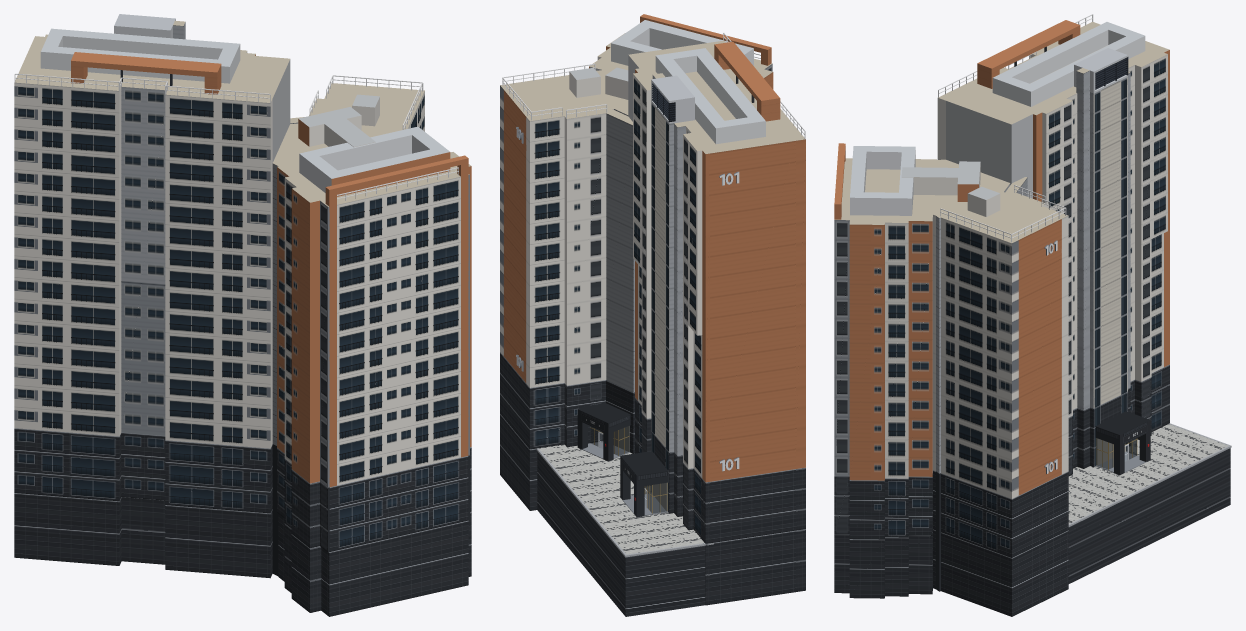
Rendered from place_금파힐101.glb.
3 renders of one model, left to right at view 1: azimuth 30°, elevation 25°; view 2: azimuth 150°, elevation 25°; view 3: azimuth 270°, elevation 25°, orthographic. The views are drawn at different scales.
Parts seen in each view (by area): view 1: WingA_NW_19F, WingC_South_16F, Basement_B1B2_14, Basement_B1B2_1, Basement_B1B2_2, WingB_NE_16F, KumhoParkHills_101, Basement_B1B2_0, Basement_B1B2_15; view 2: WingA_NW_19F, WingB_NE_16F, KumhoParkHills_101, Walkway_1F_RetainingBase, Walkway_1F_Deck, Basement_B1B2_0, WingC_South_16F, Basement_B1B2_12, Basement_B1B2_1; view 3: WingA_NW_19F, WingB_NE_16F, WingC_South_16F, Walkway_1F_RetainingBase, Basement_B1B2_12, Walkway_1F_Deck, KumhoParkHills_101, Basement_B1B2_14, Basement_B1B2_16, Basement_B1B2_18.
Boxes of the visible parts, <box> form: WingA_NW_19F: <box>14,14,290,513</box>; WingC_South_16F: <box>277,107,471,552</box>; Basement_B1B2_14: <box>278,513,468,616</box>; Basement_B1B2_1: <box>14,493,121,565</box>; Basement_B1B2_2: <box>165,505,272,578</box>; WingB_NE_16F: <box>309,75,424,137</box>; KumhoParkHills_101: <box>272,117,383,510</box>; Basement_B1B2_0: <box>121,497,165,564</box>; Basement_B1B2_15: <box>291,534,321,612</box>; WingA_NW_19F: <box>620,32,805,543</box>; WingB_NE_16F: <box>500,63,619,449</box>; KumhoParkHills_101: <box>577,70,634,461</box>; Walkway_1F_RetainingBase: <box>537,451,705,616</box>; Walkway_1F_Deck: <box>536,444,713,555</box>; Basement_B1B2_0: <box>710,530,795,604</box>; WingC_South_16F: <box>589,14,773,99</box>; Basement_B1B2_12: <box>500,414,537,510</box>; Basement_B1B2_1: <box>795,529,805,592</box>; WingA_NW_19F: <box>937,14,1169,475</box>; WingB_NE_16F: <box>921,183,1068,557</box>; WingC_South_16F: <box>834,143,980,539</box>; Walkway_1F_RetainingBase: <box>1068,448,1230,583</box>; Basement_B1B2_12: <box>933,529,1068,616</box>; Walkway_1F_Deck: <box>1068,424,1231,523</box>; KumhoParkHills_101: <box>896,159,1027,532</box>; Basement_B1B2_14: <box>834,532,932,594</box>; Basement_B1B2_16: <box>849,539,884,598</box>; Basement_B1B2_18: <box>885,536,908,596</box>.
Size of the model in its own units: 47.04 by 61.25 by 48.53.
166 materials, 107 textured.
